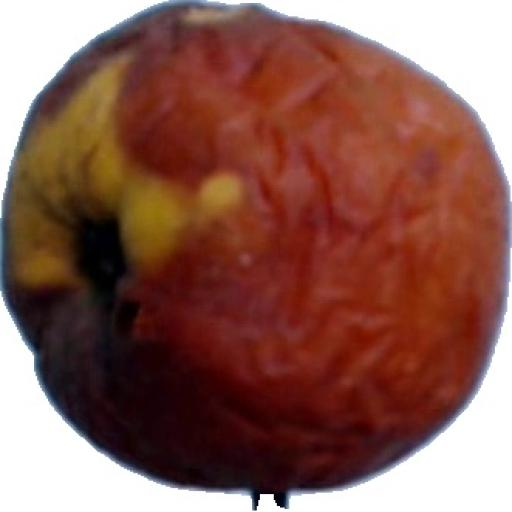apple-overripe: (0, 0, 512, 456)
